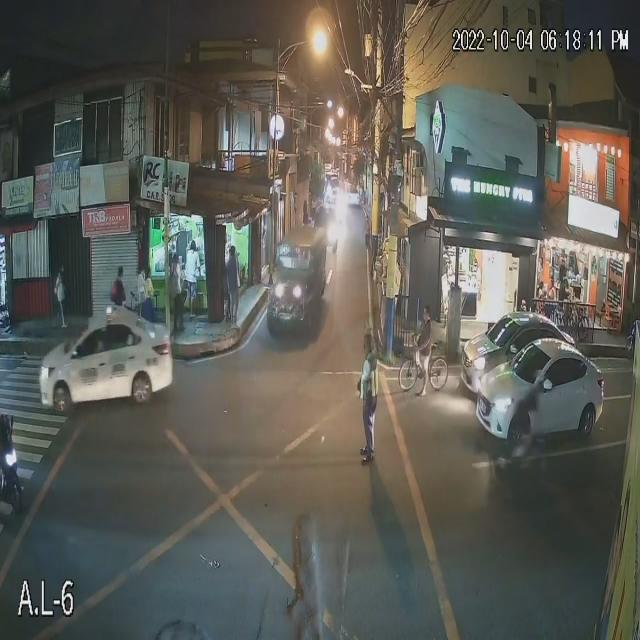motorcycle: (1, 416, 38, 514)
